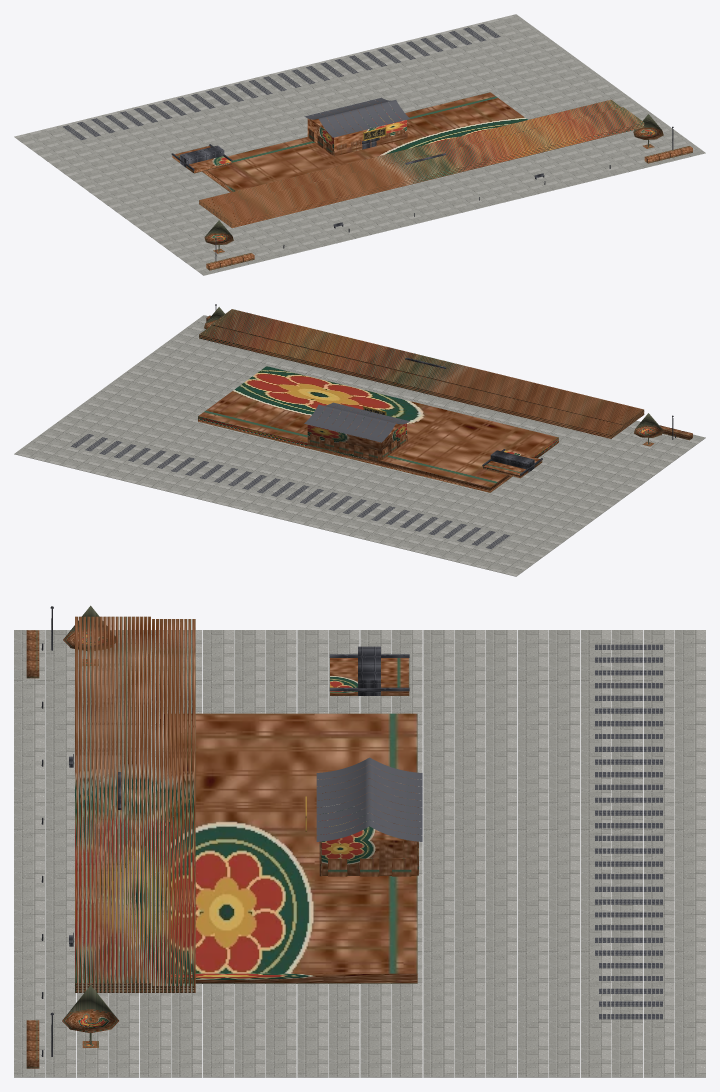
3 views of the same model, one above another, from view 1: azimuth 30°, elevation 25°; view 2: azimuth 150°, elevation 25°; view 3: azimuth 270°, elevation 25° (orthographic). The views are drawn at different scales.
Visible parts, largest first — view 1: 11680_01_06190_019_01__plinth_ground_base, 11680_01_06190_019_02__mass_body_facade, 11680_01_06190_019_03__roof_deck_structure, 11680_01_06190_019_06__landscape_greenery, 11680_01_06190_019_03__roof_metal_ornament; view 2: 11680_01_06190_019_01__plinth_ground_base, 11680_01_06190_019_02__mass_body_facade, 11680_01_06190_019_03__roof_deck_structure, 11680_01_06190_019_06__landscape_greenery, 11680_01_06190_019_03__roof_metal_ornament; view 3: 11680_01_06190_019_01__plinth_ground_base, 11680_01_06190_019_02__mass_body_facade, 11680_01_06190_019_03__roof_deck_structure, 11680_01_06190_019_06__landscape_greenery, 11680_01_06190_019_03__roof_metal_ornament.
Boxes of the visible parts, left/top/right/bottom form: 11680_01_06190_019_01__plinth_ground_base: left=14, top=14, right=705, bottom=275; 11680_01_06190_019_02__mass_body_facade: left=172, top=92, right=644, bottom=228; 11680_01_06190_019_03__roof_deck_structure: left=62, top=24, right=500, bottom=140; 11680_01_06190_019_06__landscape_greenery: left=204, top=114, right=692, bottom=270; 11680_01_06190_019_03__roof_metal_ornament: left=171, top=144, right=446, bottom=170; 11680_01_06190_019_01__plinth_ground_base: left=14, top=315, right=705, bottom=576; 11680_01_06190_019_02__mass_body_facade: left=198, top=309, right=644, bottom=492; 11680_01_06190_019_03__roof_deck_structure: left=71, top=402, right=509, bottom=549; 11680_01_06190_019_06__landscape_greenery: left=204, top=307, right=692, bottom=446; 11680_01_06190_019_03__roof_metal_ornament: left=405, top=357, right=542, bottom=475; 11680_01_06190_019_01__plinth_ground_base: left=14, top=630, right=705, bottom=1077; 11680_01_06190_019_02__mass_body_facade: left=75, top=616, right=418, bottom=992; 11680_01_06190_019_03__roof_deck_structure: left=316, top=644, right=662, bottom=1019; 11680_01_06190_019_06__landscape_greenery: left=26, top=605, right=118, bottom=1068; 11680_01_06190_019_03__roof_metal_ornament: left=118, top=646, right=409, bottom=809.
Bounding box in the file's own units: 110 × 7.35 × 71.95.
7 materials, 7 textured.
